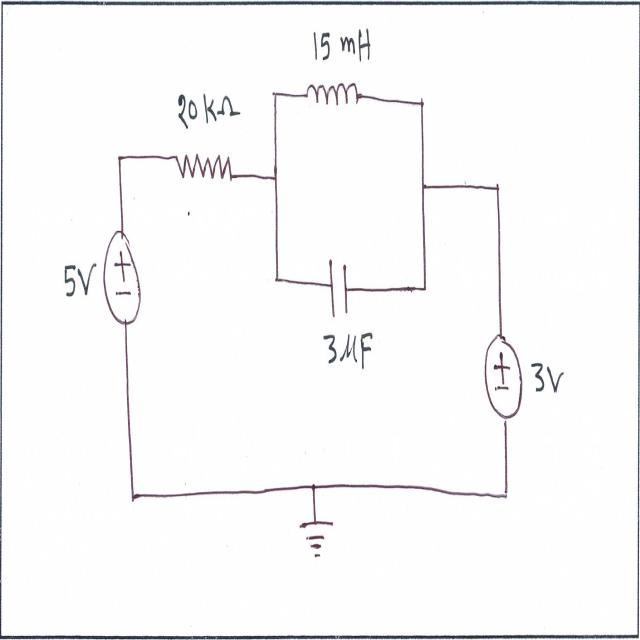capacitor: (328, 251, 352, 325)
ground: (297, 514, 335, 573)
inductor: (302, 80, 366, 118)
resistor: (170, 148, 237, 192)
voltage_source: (102, 233, 145, 334), (484, 328, 526, 423)
